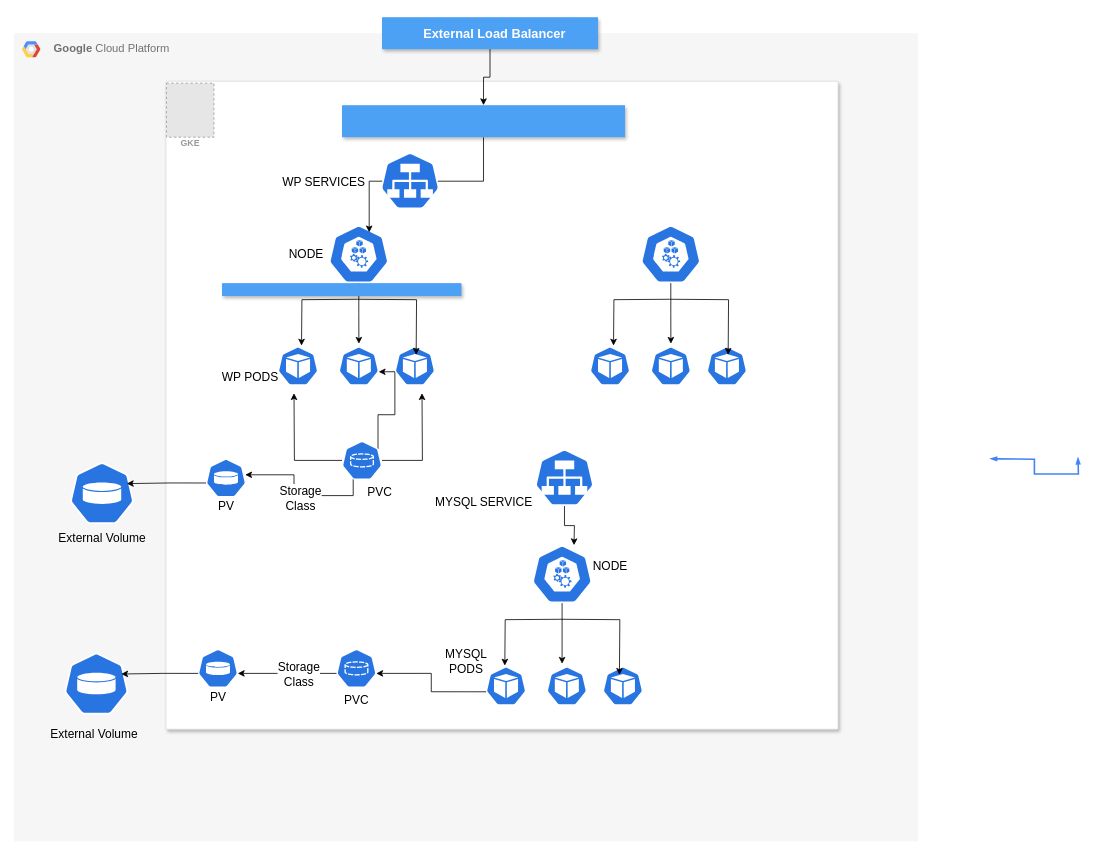
Some shapes in this 1098 by 854 pixel diagram are drawn without their labels. Grey dashed boxes stand in for pictures. The centre of each missing label's shape, as x and y in pixels:
"HORIZONTAL POD AUTOSCALER" goes at point 342,290.
"NGINX INGRESS CONTROLLER" goes at point 483,122.
